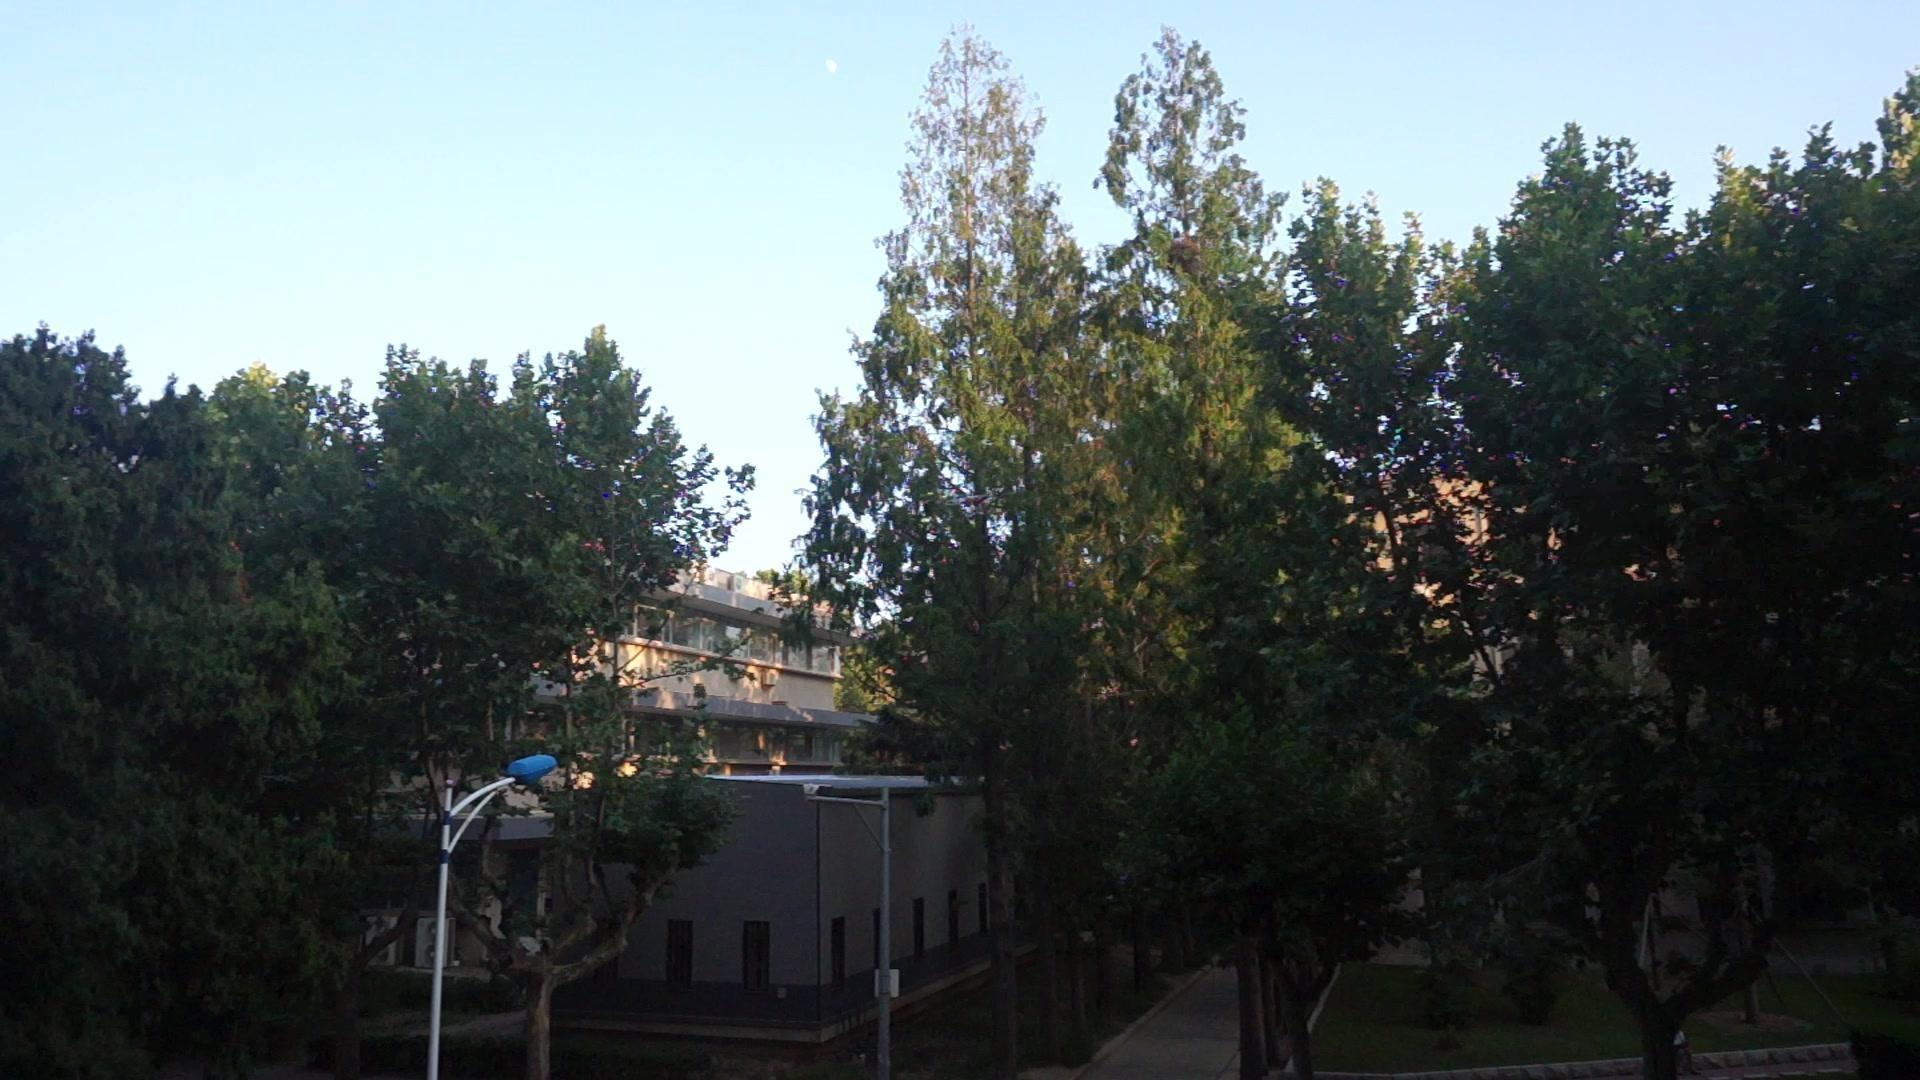UAV: (945, 495, 1000, 517)
